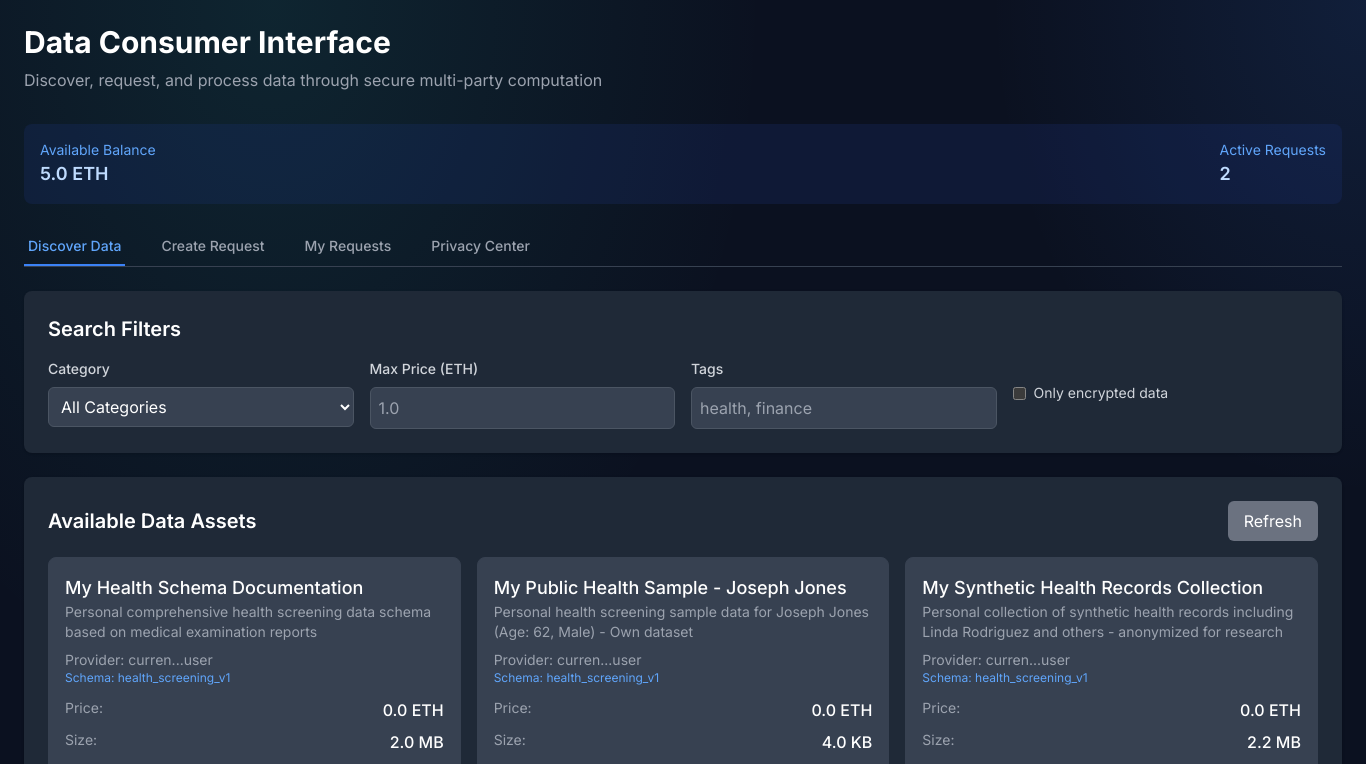
Test: DataConsumerInterface › displays privacy center sections
The width and height of the screenshot is (1366, 764).
// Switch to Privacy Center tab
Click the button "Privacy Center": (481, 247) [427,228,534,266]
(page scrolled)
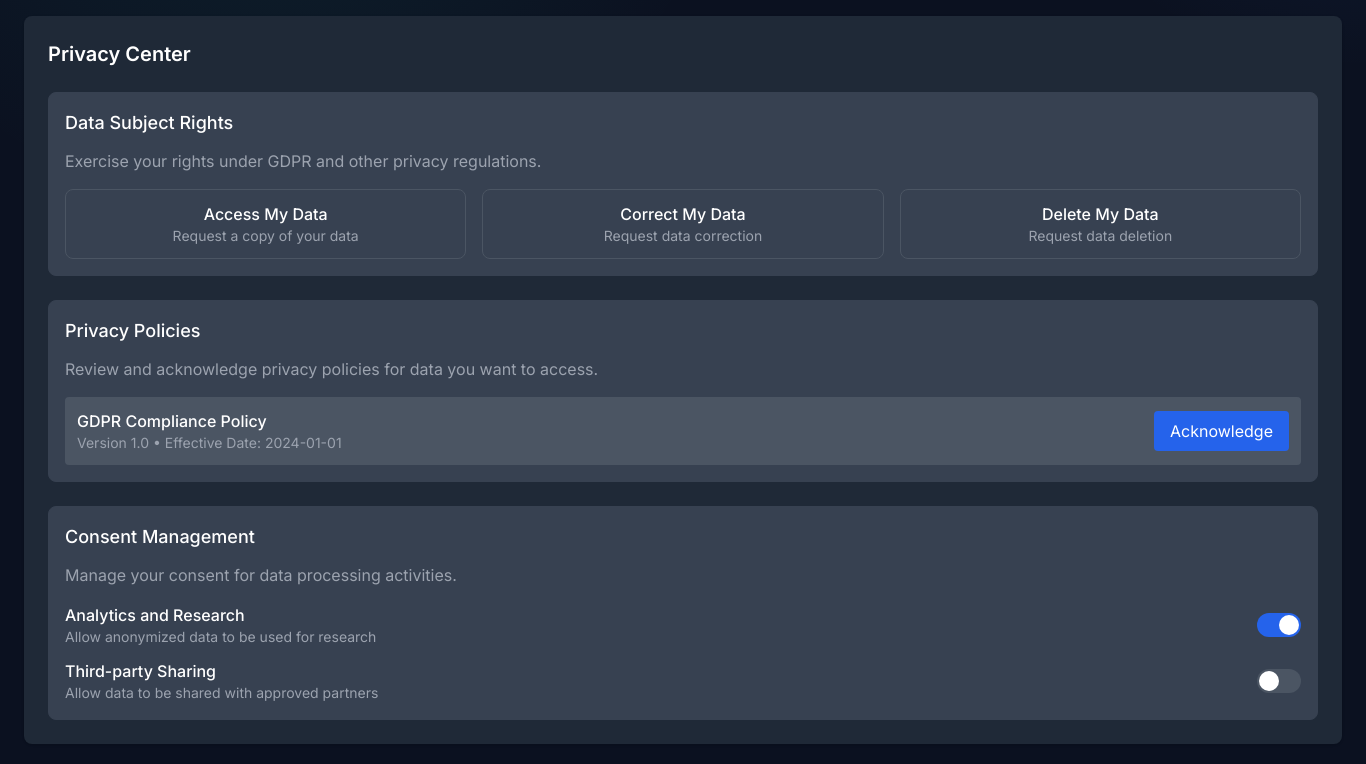
Expected: the heading "Data Subject Rights" is shown, [65,112,233,133]
Expected: the heading "Privacy Policies" is shown, [65,320,200,341]
Expected: the heading "Consent Management" is shown, [65,526,255,547]
